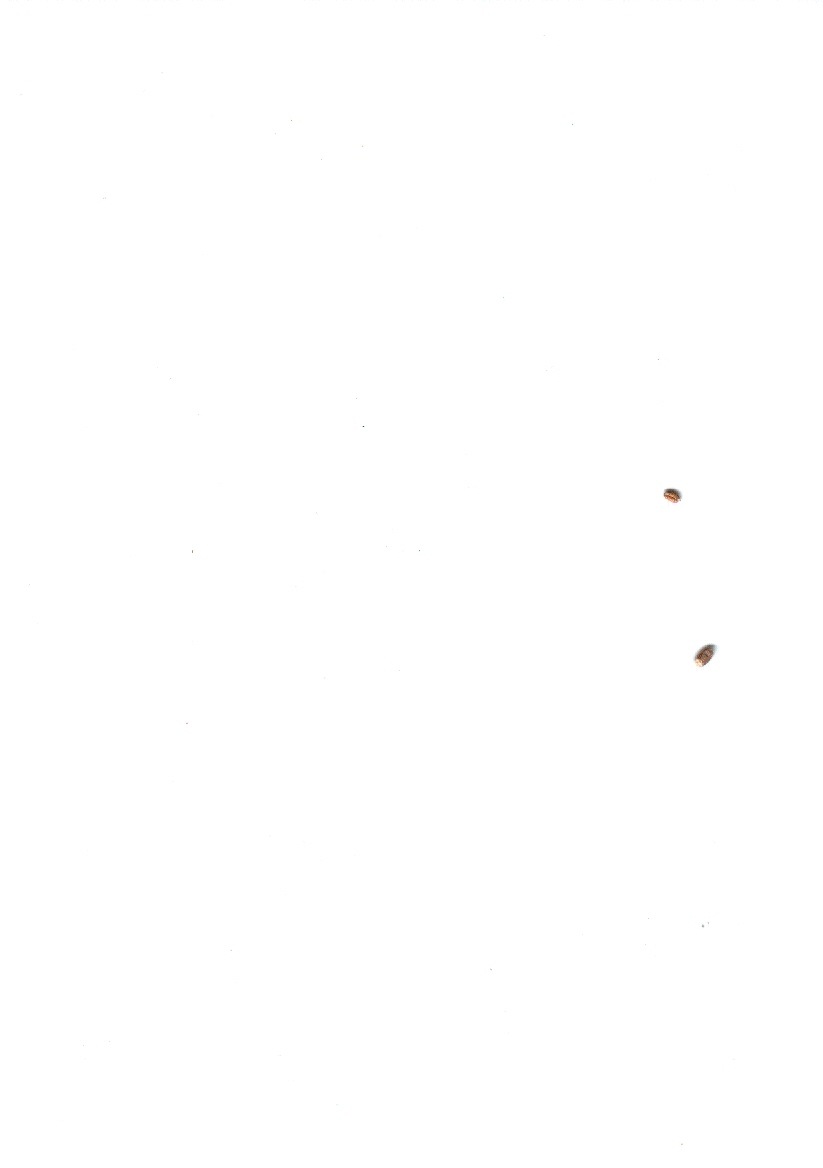grains: (683, 633, 724, 677), (654, 480, 689, 512)
